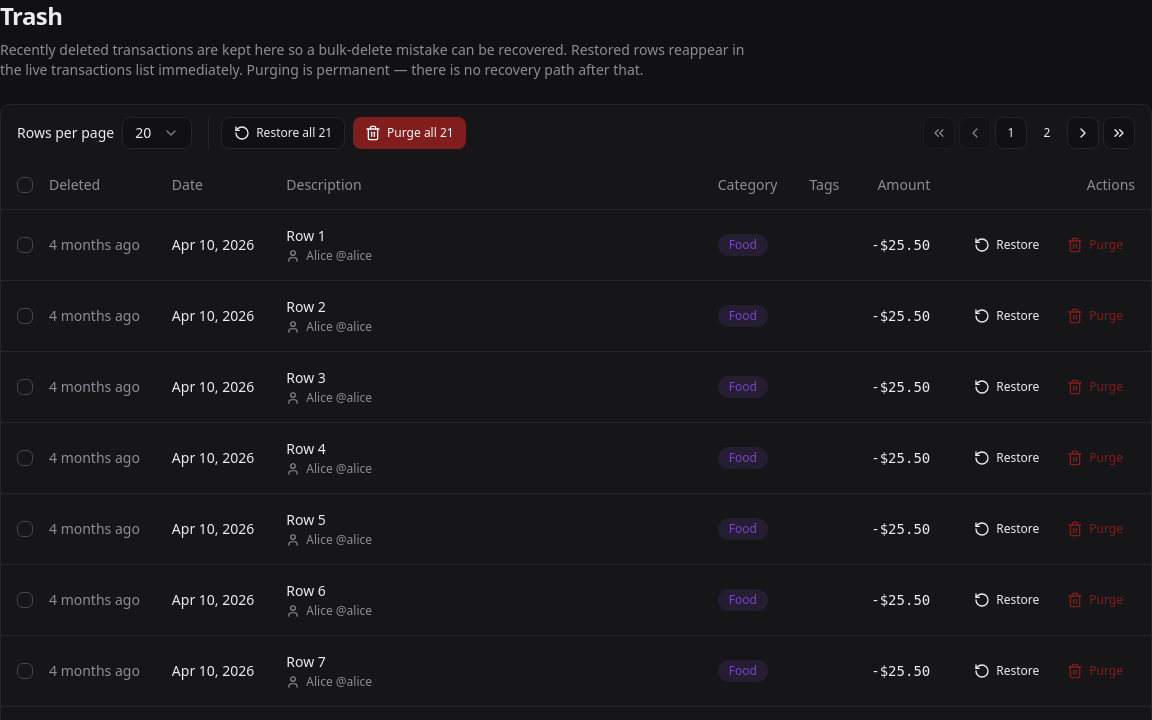
Test: Trash › as admin › refetch that empties a page > 1 steps back one page automatically
Expected: the text "Row 1" is shown, [286,226,326,244]
Click the button named "go to next page": (1083, 133) [1067,117,1099,149]
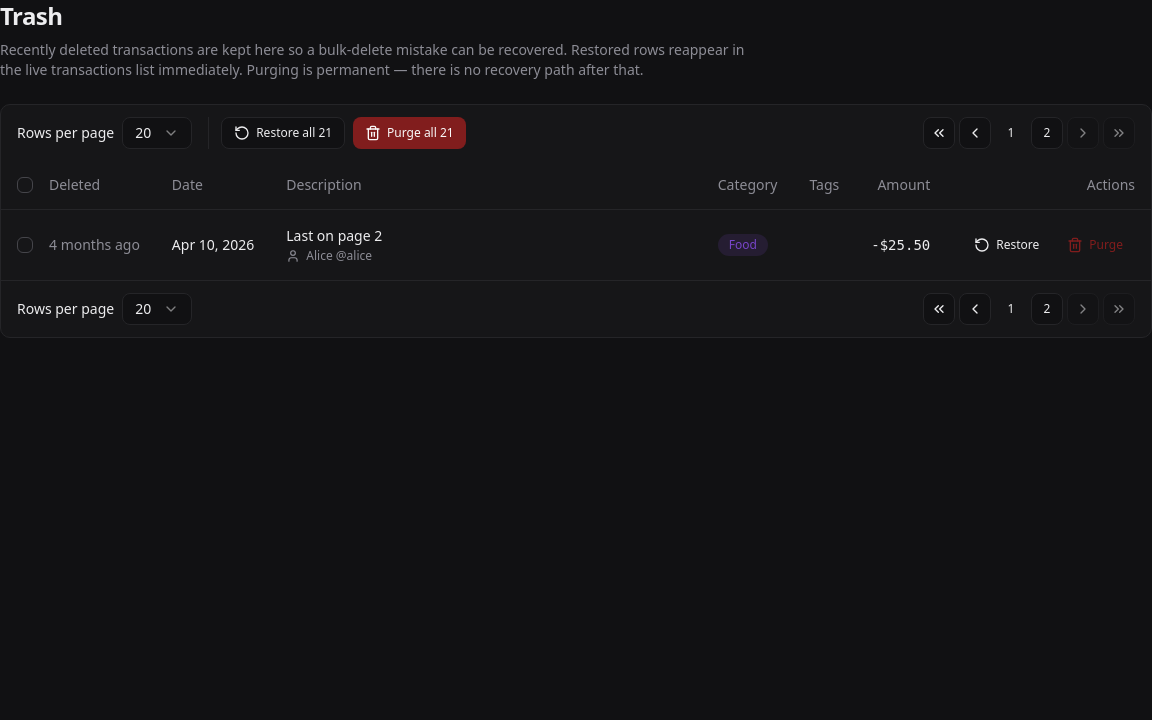
Result: the text "Last on page 2" is shown at [286,226,382,244]
Click the button with aria-label "restore last on page 2": (1007, 244) [962,228,1051,260]
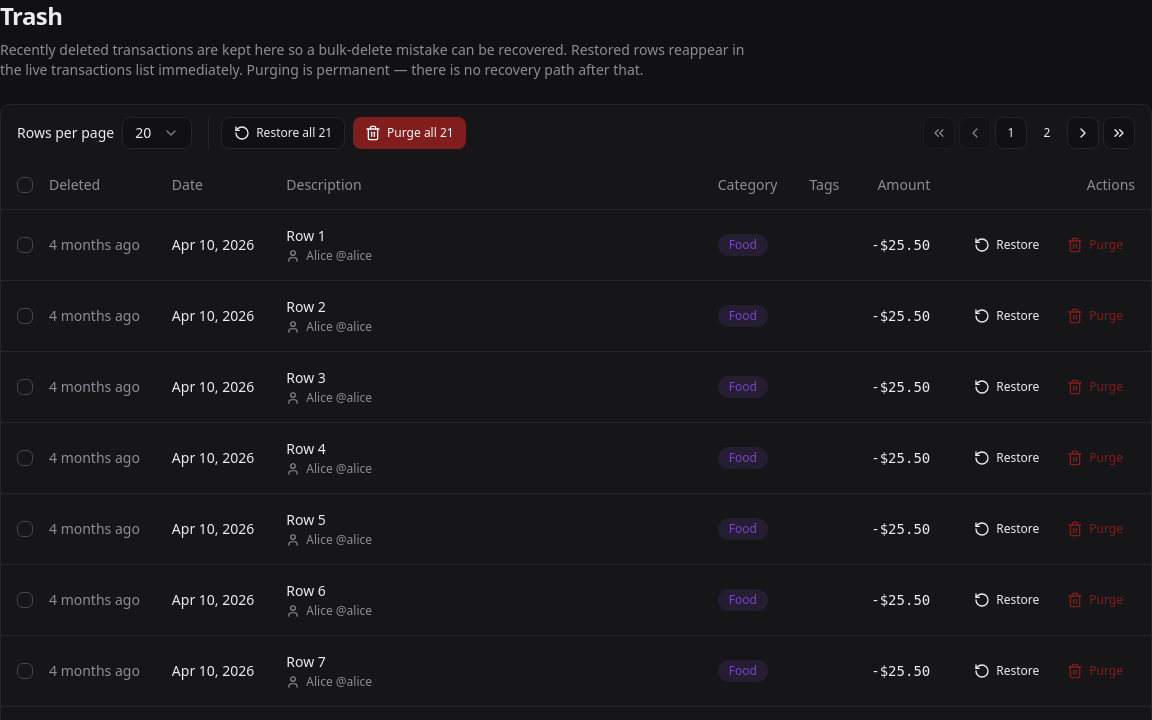
Result: the text "Row 1" is shown at [286,226,326,244]
